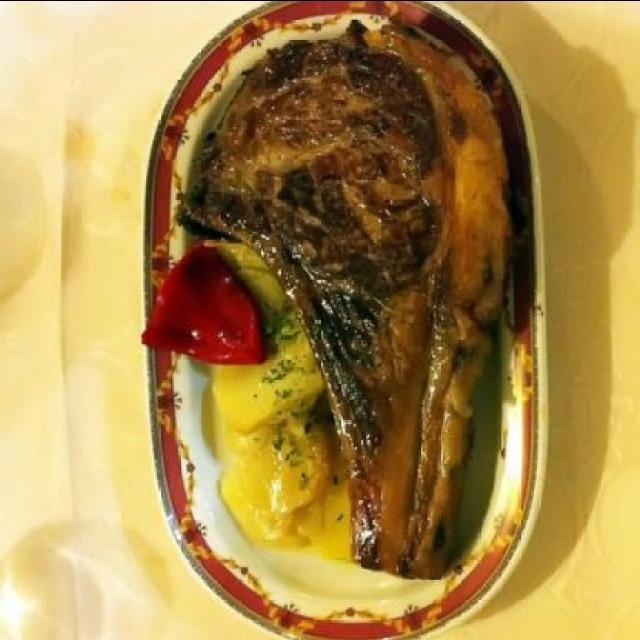Steak: (168, 16, 500, 556)
